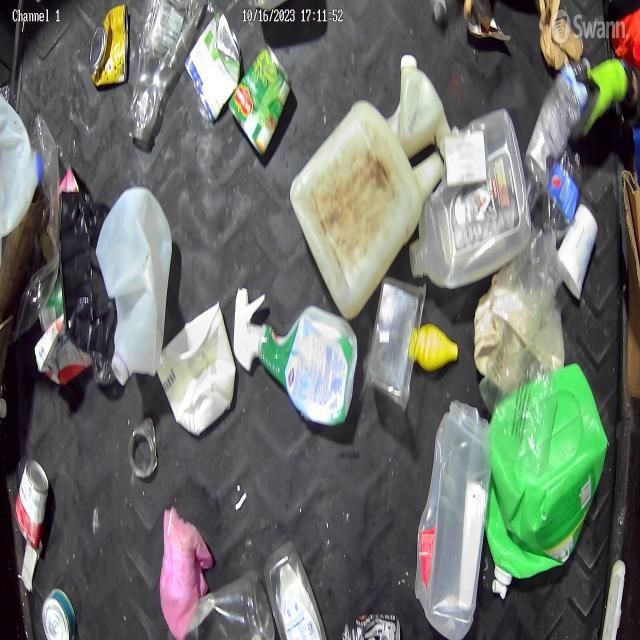can: (85, 1, 126, 87), (15, 460, 50, 548)
milk_jug: (98, 186, 170, 384)
non_white_jug: (492, 361, 603, 574)
plastic_bottle: (128, 5, 192, 146), (542, 147, 582, 243)
